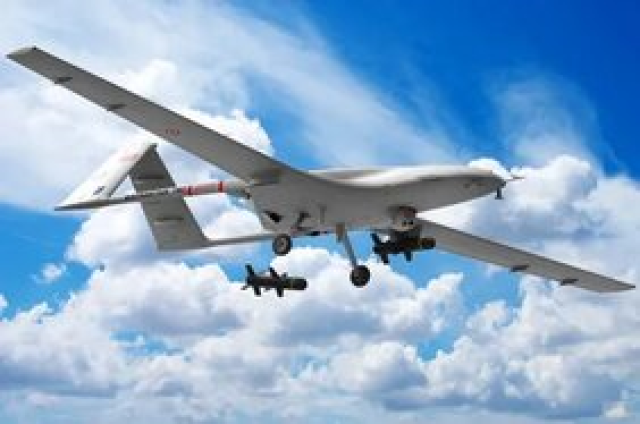military drone: (5, 42, 635, 293)
